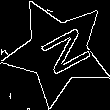N_SW: (26, 22, 89, 81)
